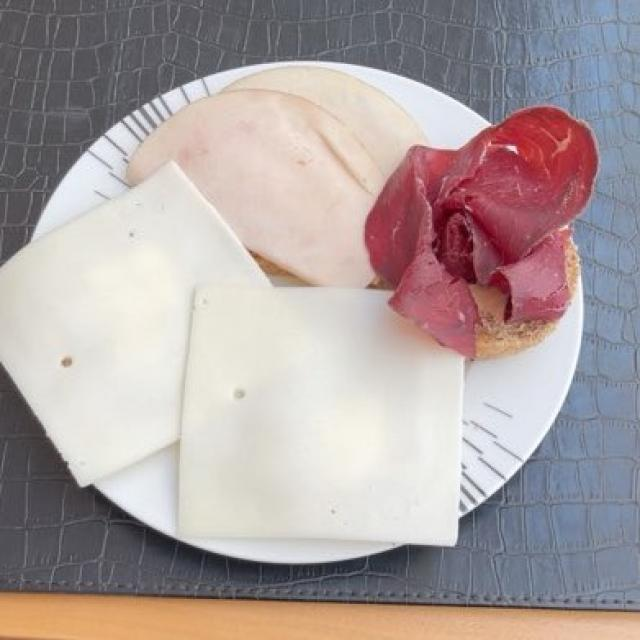chicken-breast: (124, 68, 422, 291)
